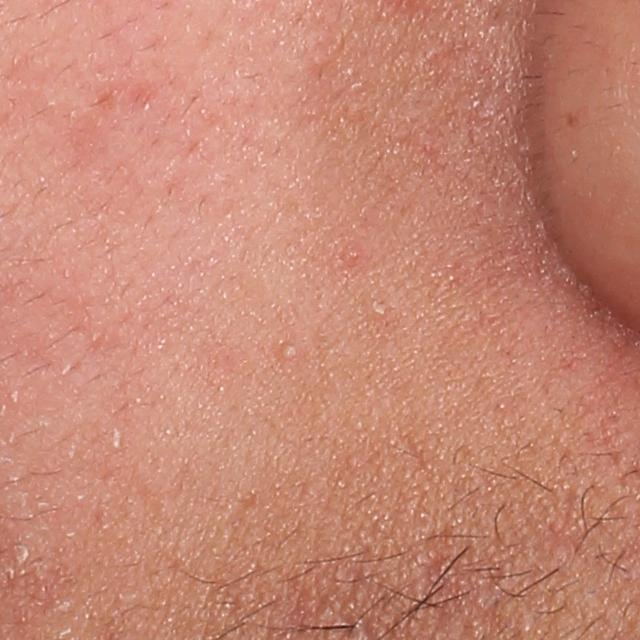nevus: (565, 109, 578, 129)
